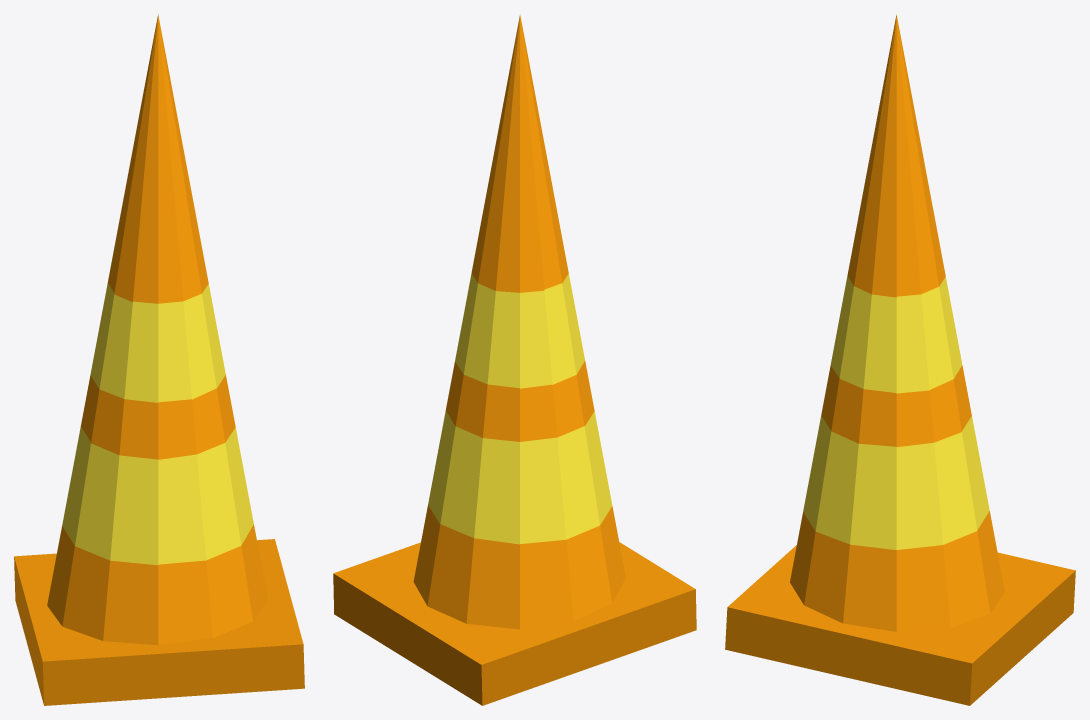
Rendered from 5Zw_4hz5GuO.glb.
The picture shows the model from 3 angles, left to right: view 1: azimuth 30°, elevation 25°; view 2: azimuth 150°, elevation 25°; view 3: azimuth 270°, elevation 25°; orthographic projection. The views are drawn at different scales.
Parts seen in each view (by area): view 1: Node; view 2: Node; view 3: Node.
Part boxes in pixels (x1,y1,x2,y2): Node: [14, 14, 304, 705]; Node: [333, 14, 696, 705]; Node: [725, 14, 1075, 705].
Bounding box in the file's own units: 0.5123 × 1.03 × 0.5245.
